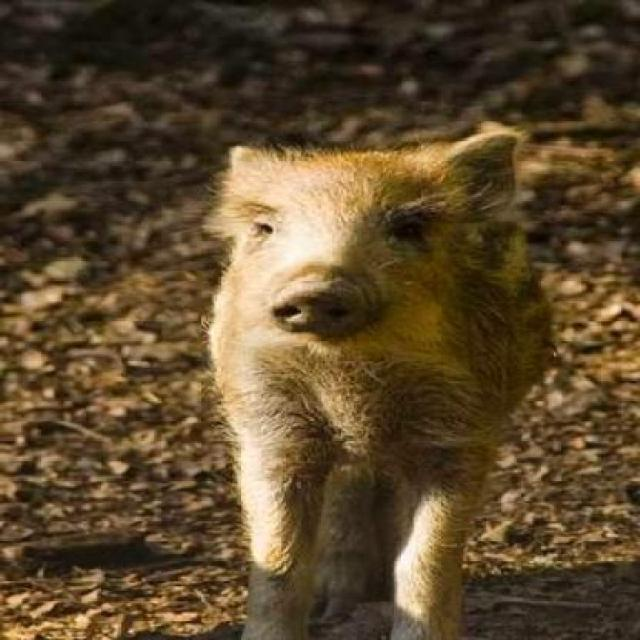Boar: (206, 106, 566, 639)
